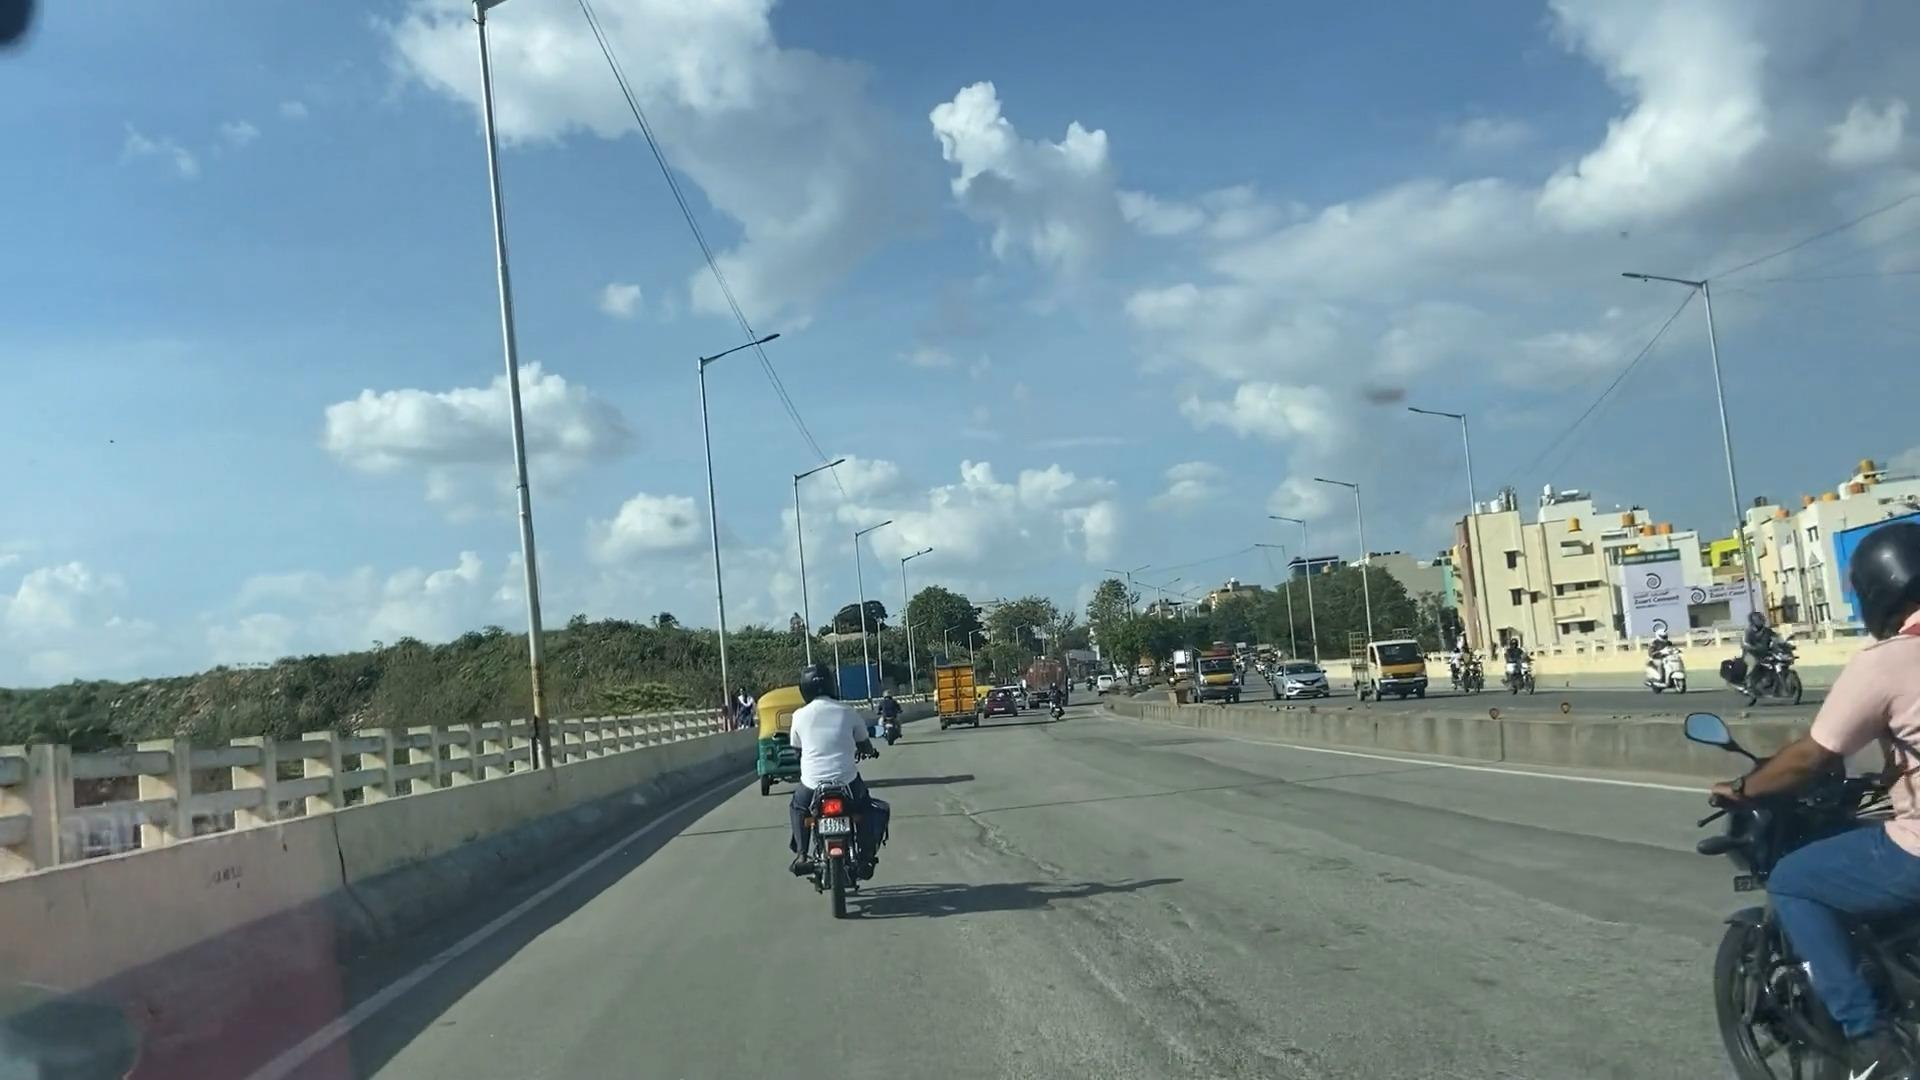LMV: (765, 665, 905, 918)
